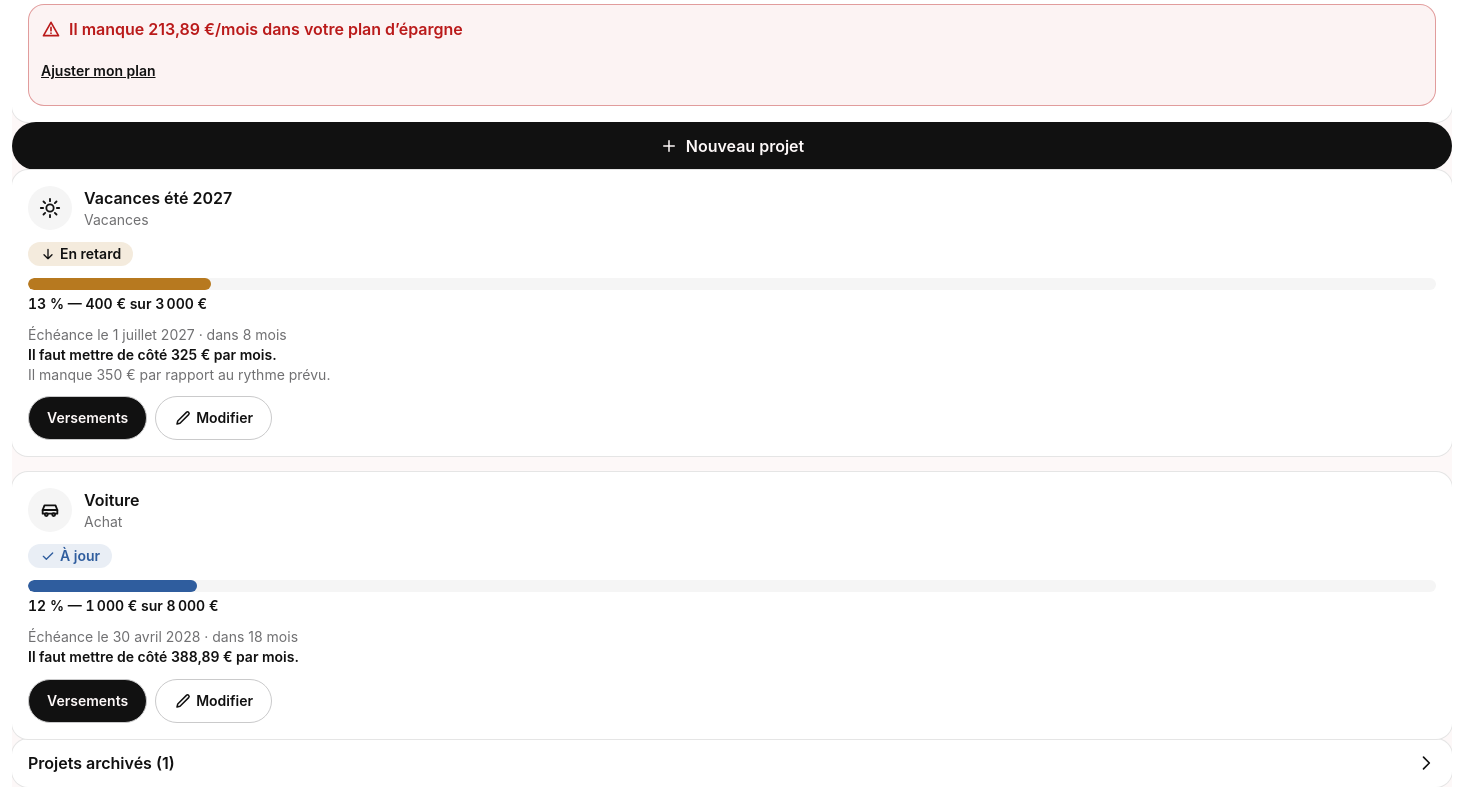
Test: ProjetsPage › list › folds the archived projects
The image size is (1464, 787).
(page scrolled)
Click the heading "Projets archivés (1)" at [95, 763], box [28,752,1436,772]
(page scrolled)
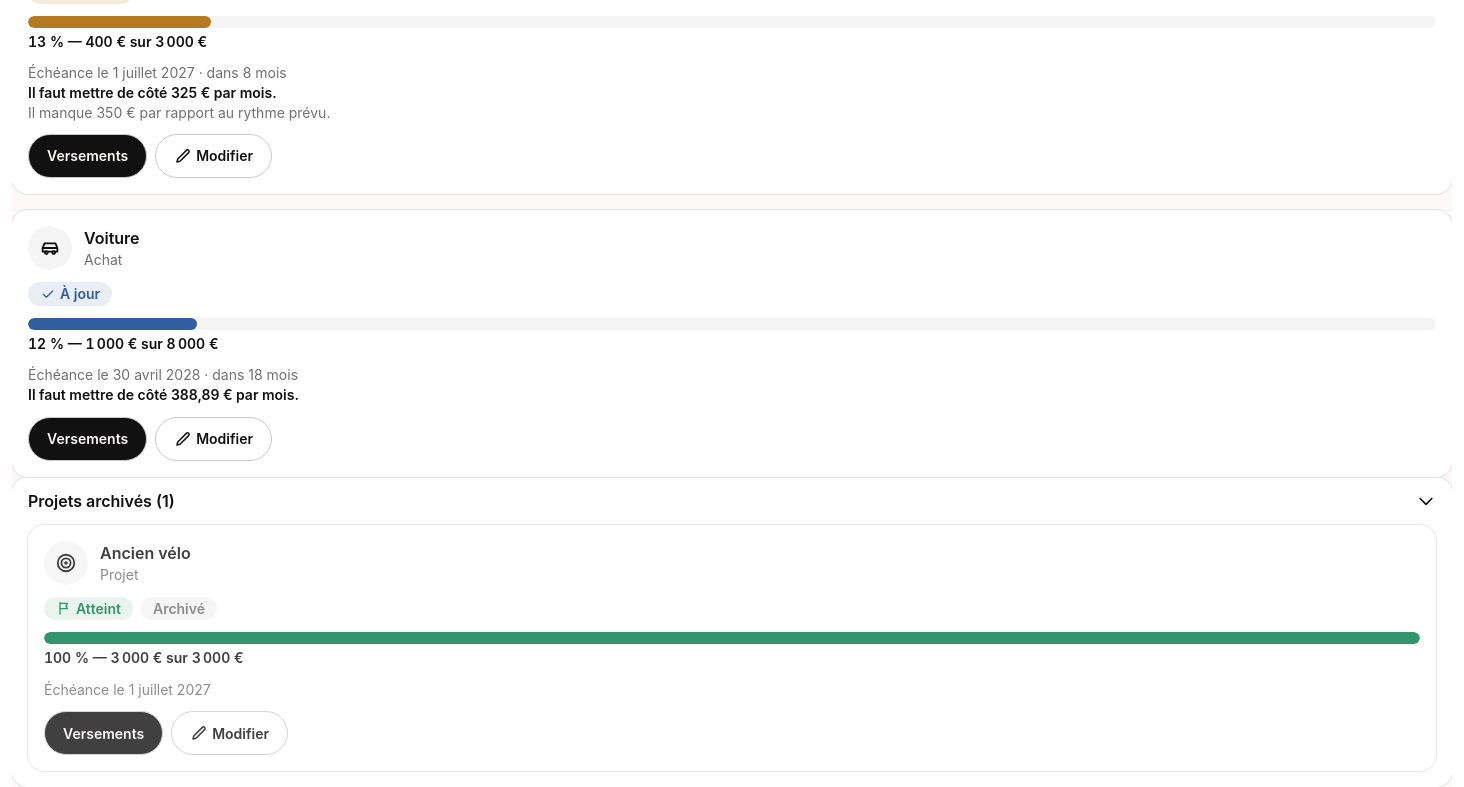
Check: the heading "Ancien vélo" is shown, box [100,542,191,562]
Check: the text "Archivé" is shown, box [141,596,217,620]
